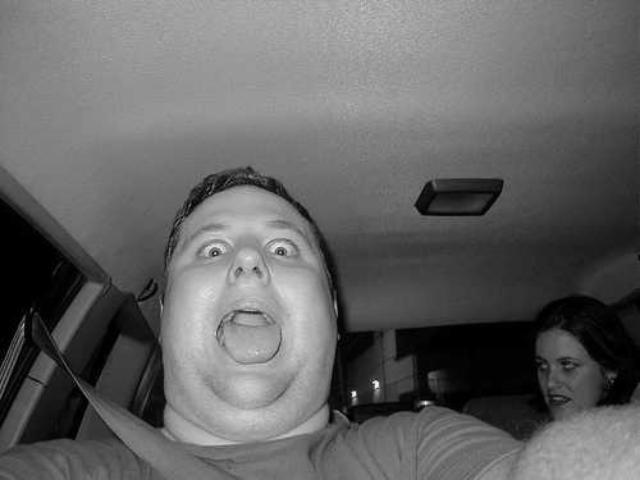SafeDriving: (258, 230, 306, 267), (192, 231, 234, 268), (555, 355, 583, 373), (532, 358, 552, 374)
Seatbelt: (18, 300, 244, 480)
